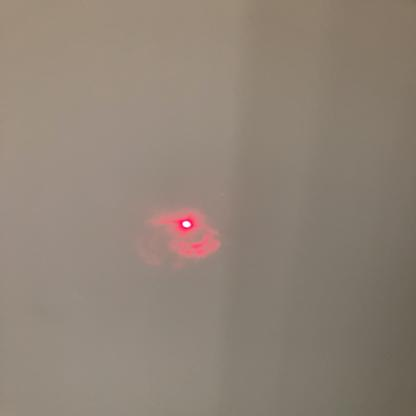target: (165, 212, 204, 238)
